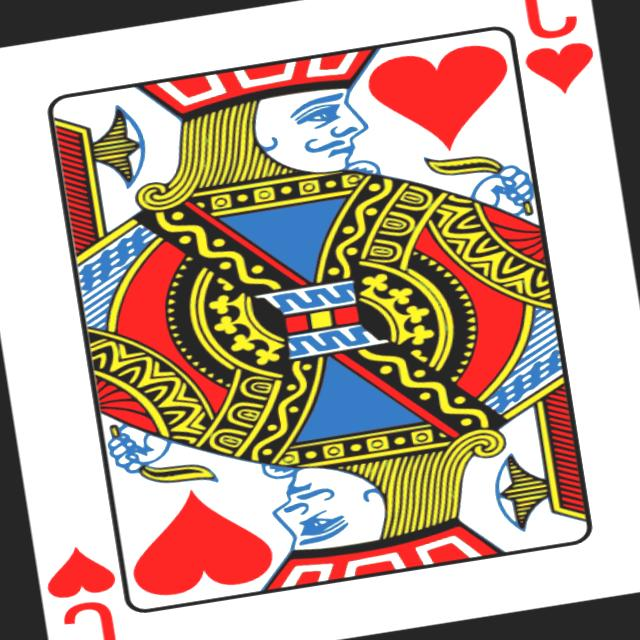Heart: (121, 478, 278, 602), (364, 40, 520, 164), (522, 40, 600, 100), (41, 541, 118, 601)
Jack: (520, 0, 581, 42), (61, 598, 121, 640)
